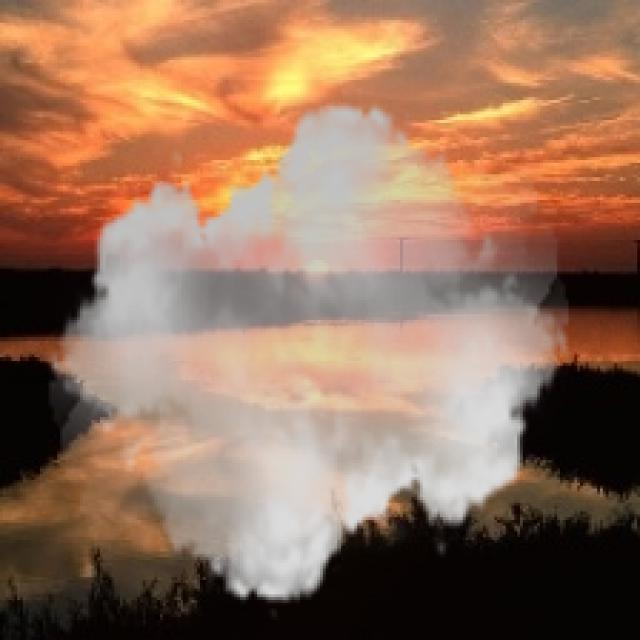smoke: (49, 83, 568, 623)
